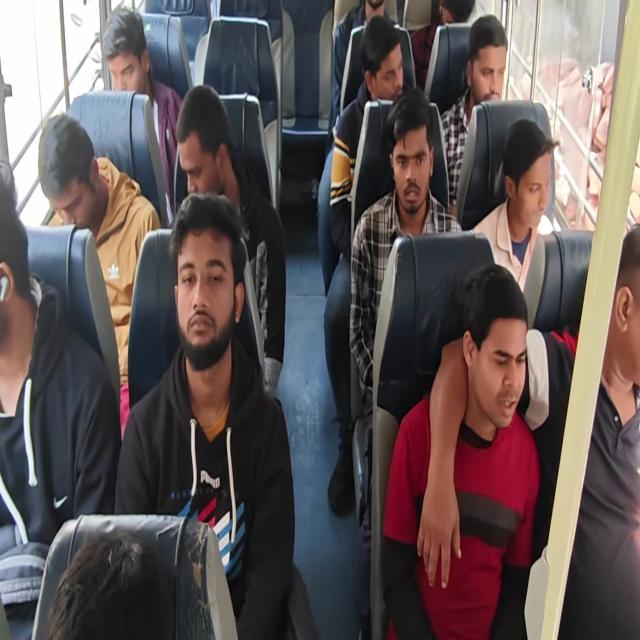person: (164, 200, 249, 372), (42, 535, 175, 640), (459, 266, 528, 434), (0, 148, 44, 394), (25, 110, 111, 232), (386, 78, 441, 228), (500, 111, 561, 241), (170, 84, 238, 198), (612, 214, 640, 402), (356, 17, 409, 111), (100, 0, 147, 100), (466, 8, 507, 100), (432, 0, 474, 40), (356, 0, 386, 13)
